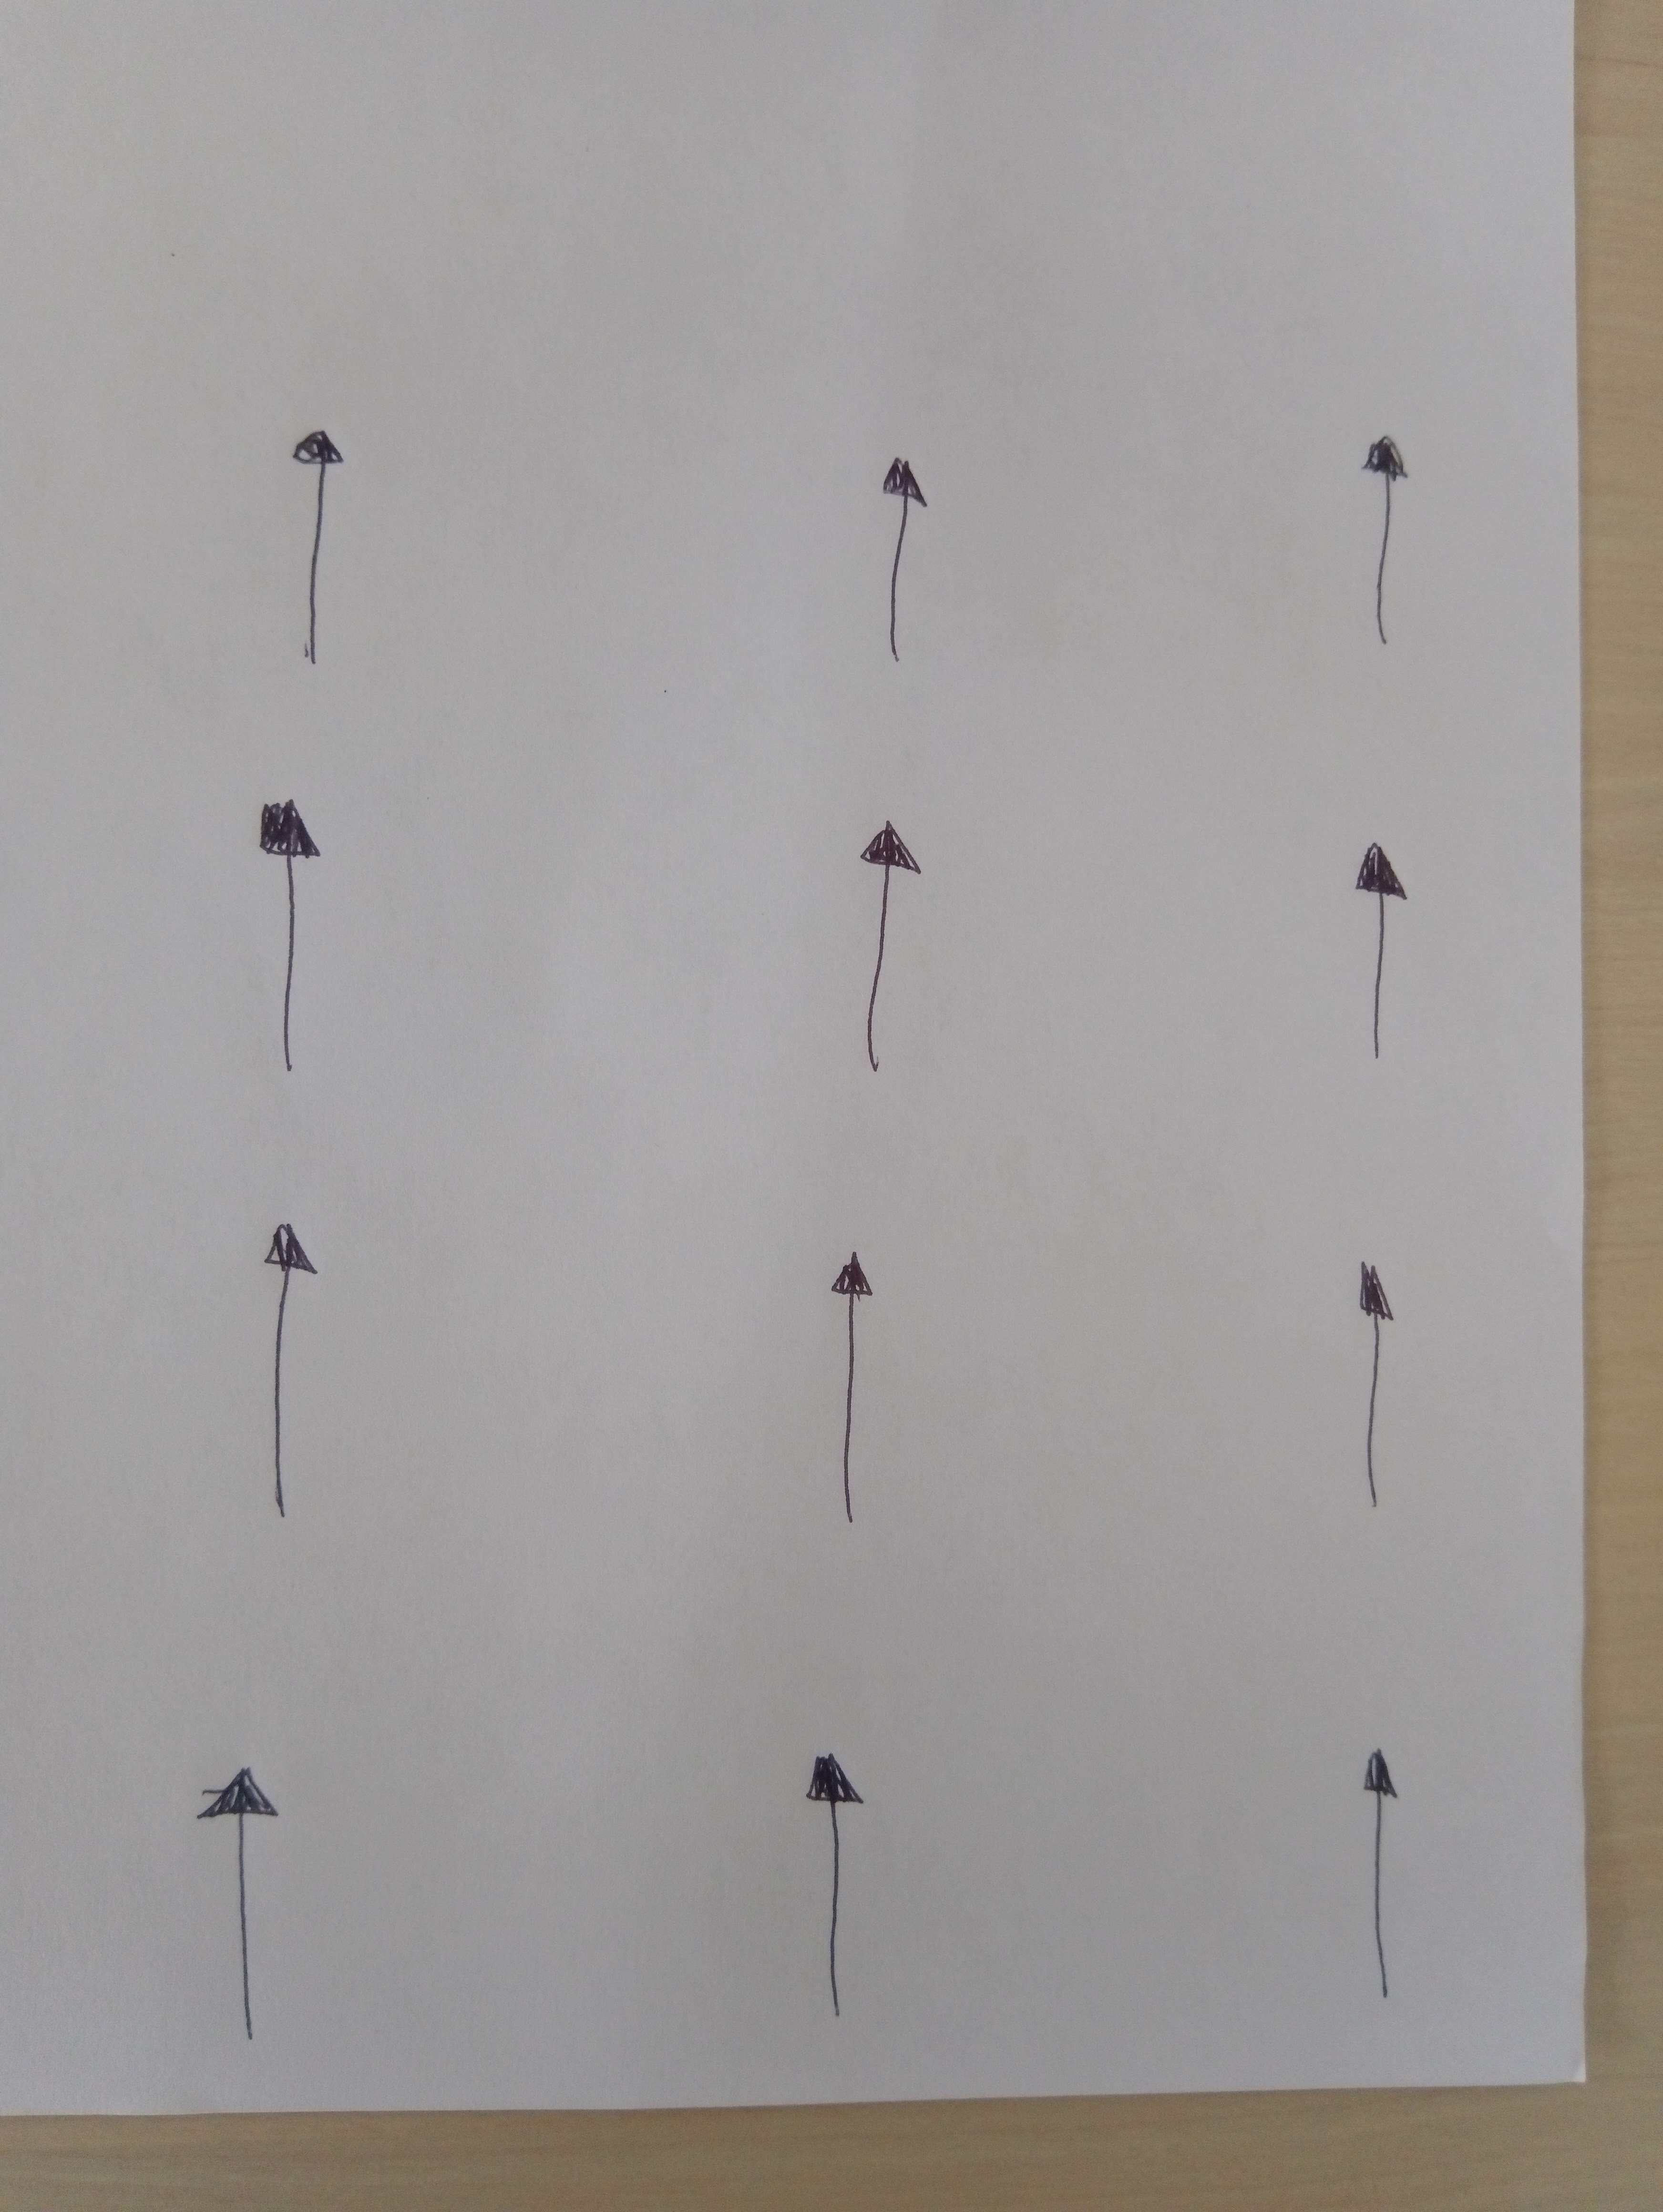arrow_line_up: (157, 1725, 339, 2076), (208, 803, 370, 1109), (786, 1713, 886, 2015), (259, 388, 358, 683), (1328, 1252, 1422, 1554), (253, 1205, 339, 1528), (844, 817, 933, 1124), (875, 419, 952, 756), (1340, 833, 1425, 1049), (831, 1240, 894, 1515), (1359, 1732, 1422, 2004), (1371, 384, 1401, 693)
